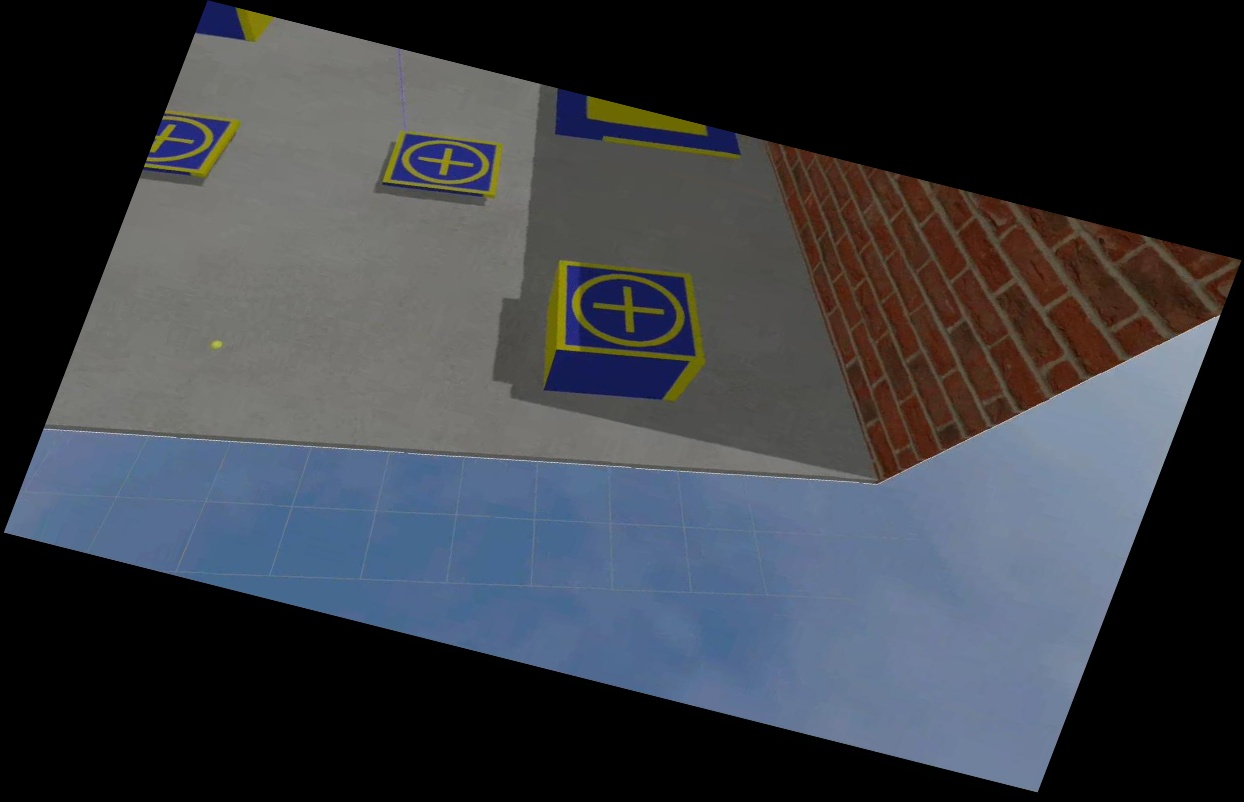large_base: (537, 87, 750, 181)
small_base: (526, 240, 737, 385), (377, 118, 518, 214), (142, 101, 243, 190)
